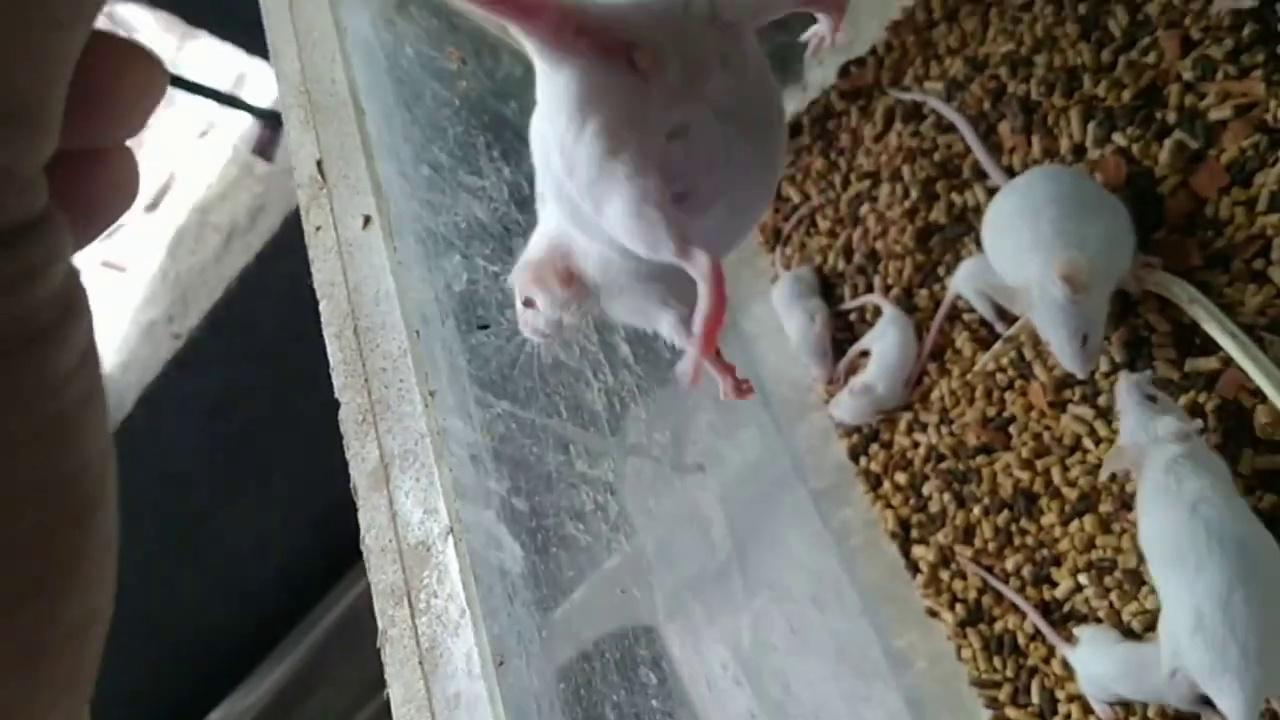rat: (449, 0, 852, 403), (889, 90, 1135, 379), (1100, 372, 1280, 720), (958, 556, 1203, 720), (773, 187, 839, 393), (832, 294, 918, 427)
